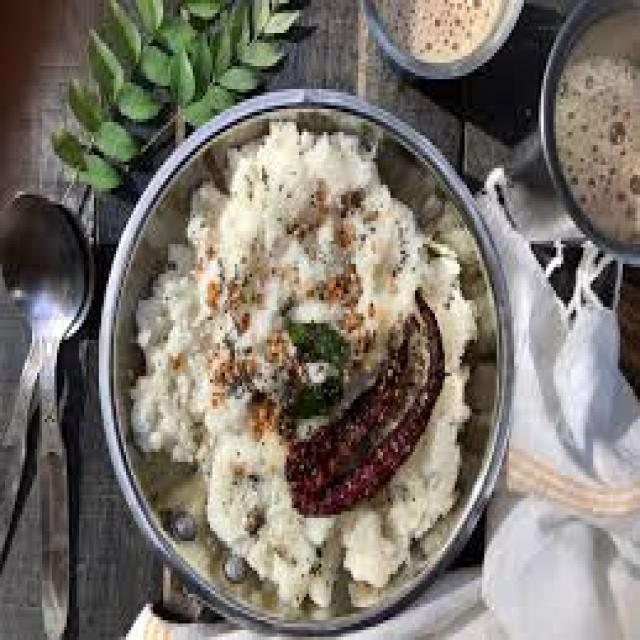UPMA: (121, 115, 494, 617)
